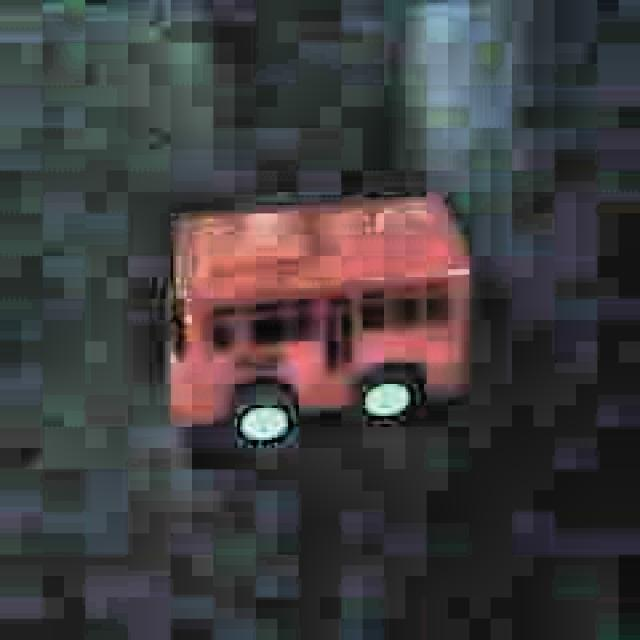bus: (155, 187, 481, 456)
